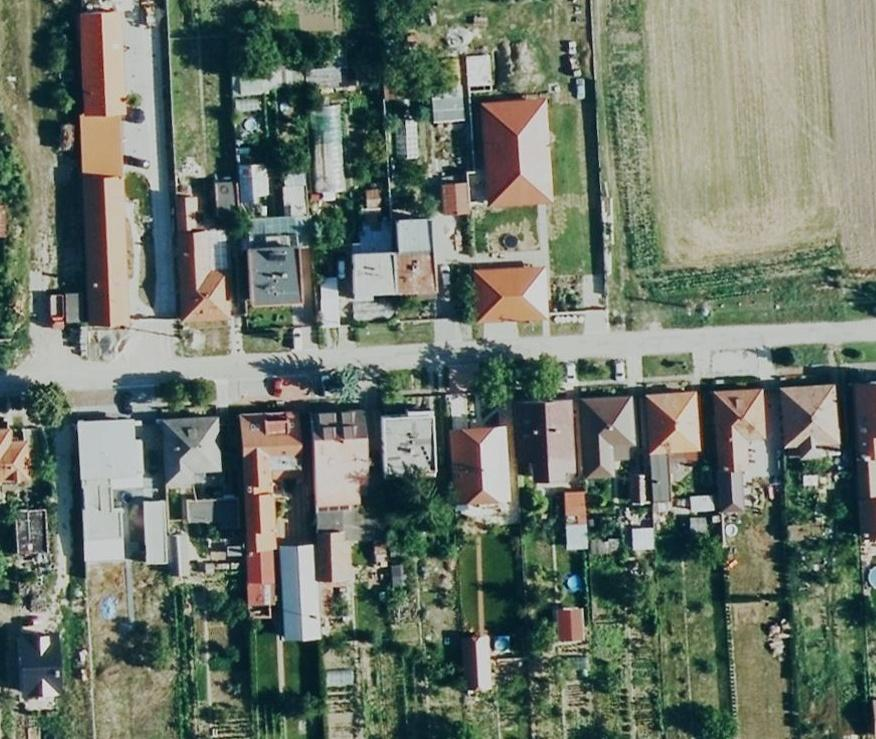field: (594, 0, 876, 327)
